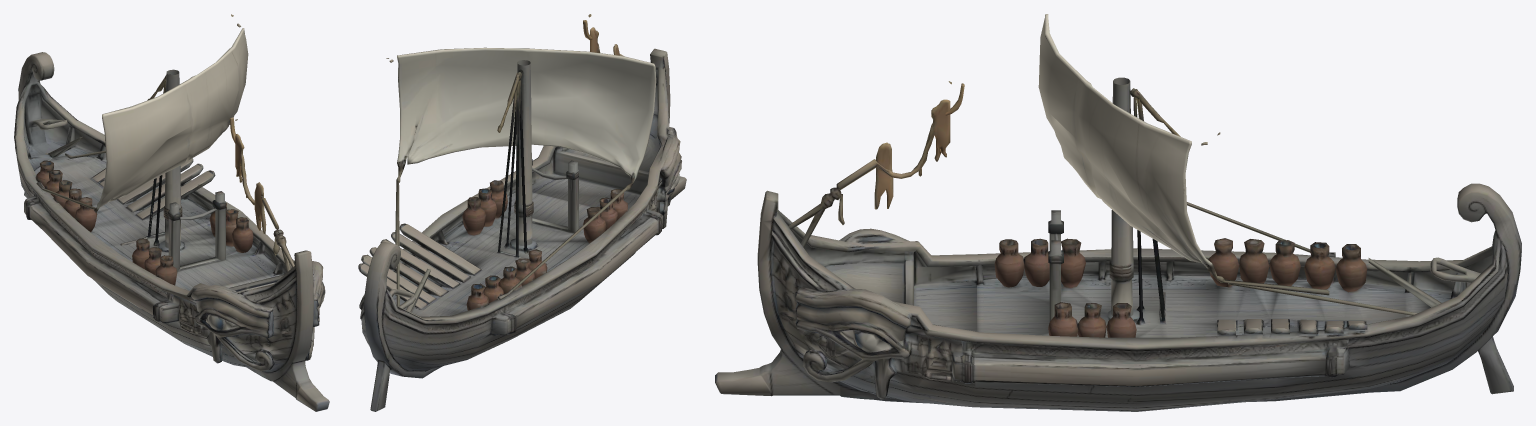
Rendered from ship_hero_03_mesh_8000.glb.
3 views of the same model, side by side, from view 1: azimuth 30°, elevation 25°; view 2: azimuth 150°, elevation 25°; view 3: azimuth 270°, elevation 25° (orthographic). The views are drawn at different scales.
Parts seen in each view (by area): view 1: tripo_node_87100efc-d726-47c7-a469-4a6746a9b5f4; view 2: tripo_node_87100efc-d726-47c7-a469-4a6746a9b5f4; view 3: tripo_node_87100efc-d726-47c7-a469-4a6746a9b5f4.
Boxes of the visible parts, left/top/right/bottom form: tripo_node_87100efc-d726-47c7-a469-4a6746a9b5f4: left=14, top=14, right=329, bottom=411; tripo_node_87100efc-d726-47c7-a469-4a6746a9b5f4: left=358, top=14, right=686, bottom=411; tripo_node_87100efc-d726-47c7-a469-4a6746a9b5f4: left=715, top=14, right=1521, bottom=411.
Size of the model in its own units: 2.09 by 2.5 by 5.51.
1 material, 1 textured.
